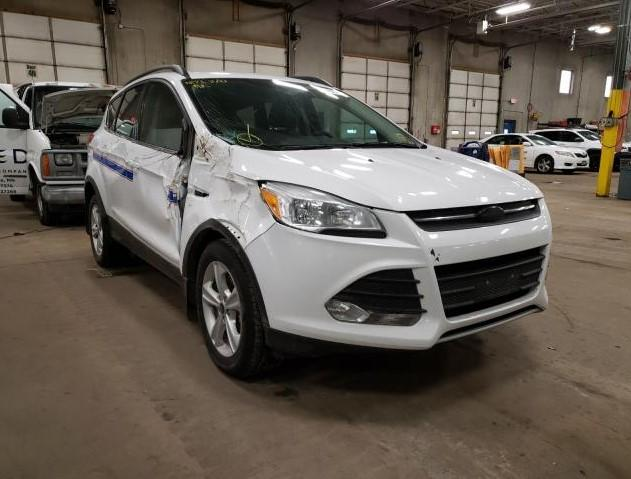Back-door: (93, 82, 145, 223)
Back-wheel: (89, 196, 123, 267)
Back-window: (116, 85, 145, 135), (109, 96, 122, 130)
Fender: (179, 130, 276, 276)
Front-bumper: (242, 199, 552, 353)
Front-door: (124, 79, 194, 269)
Front-wheel: (194, 237, 282, 382)
Front-window: (139, 82, 183, 150)
Grille: (435, 245, 548, 315), (410, 201, 540, 232)
Headlight: (256, 180, 388, 241)
Hood: (231, 143, 548, 211)
Quarter-panel: (84, 127, 107, 213)
Rocker-panel: (108, 214, 187, 285)
Roof: (115, 72, 295, 94)
Windshield: (183, 79, 421, 150)
